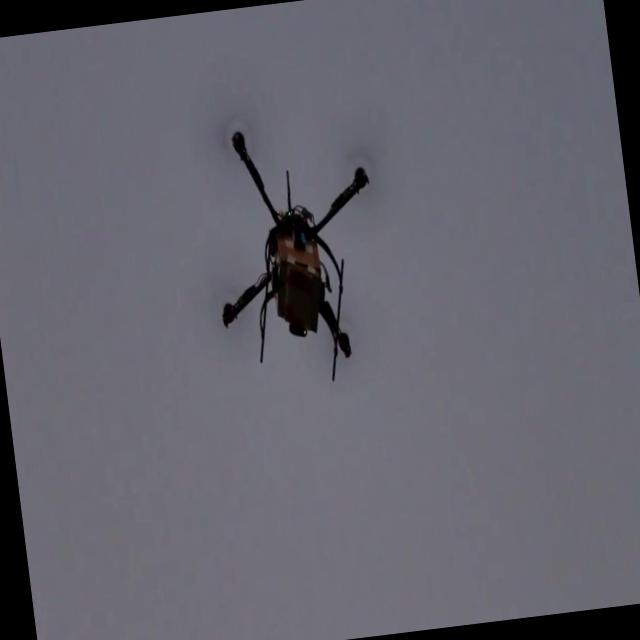drone: (198, 114, 394, 394)
